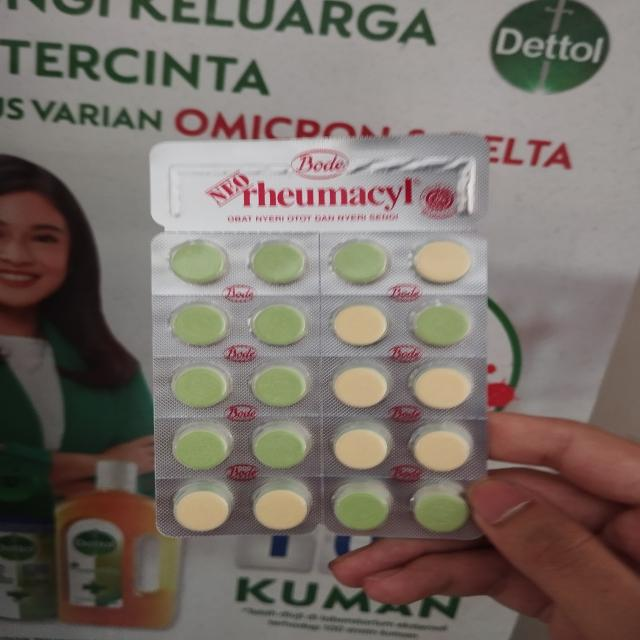B3: (147, 135, 488, 539)
